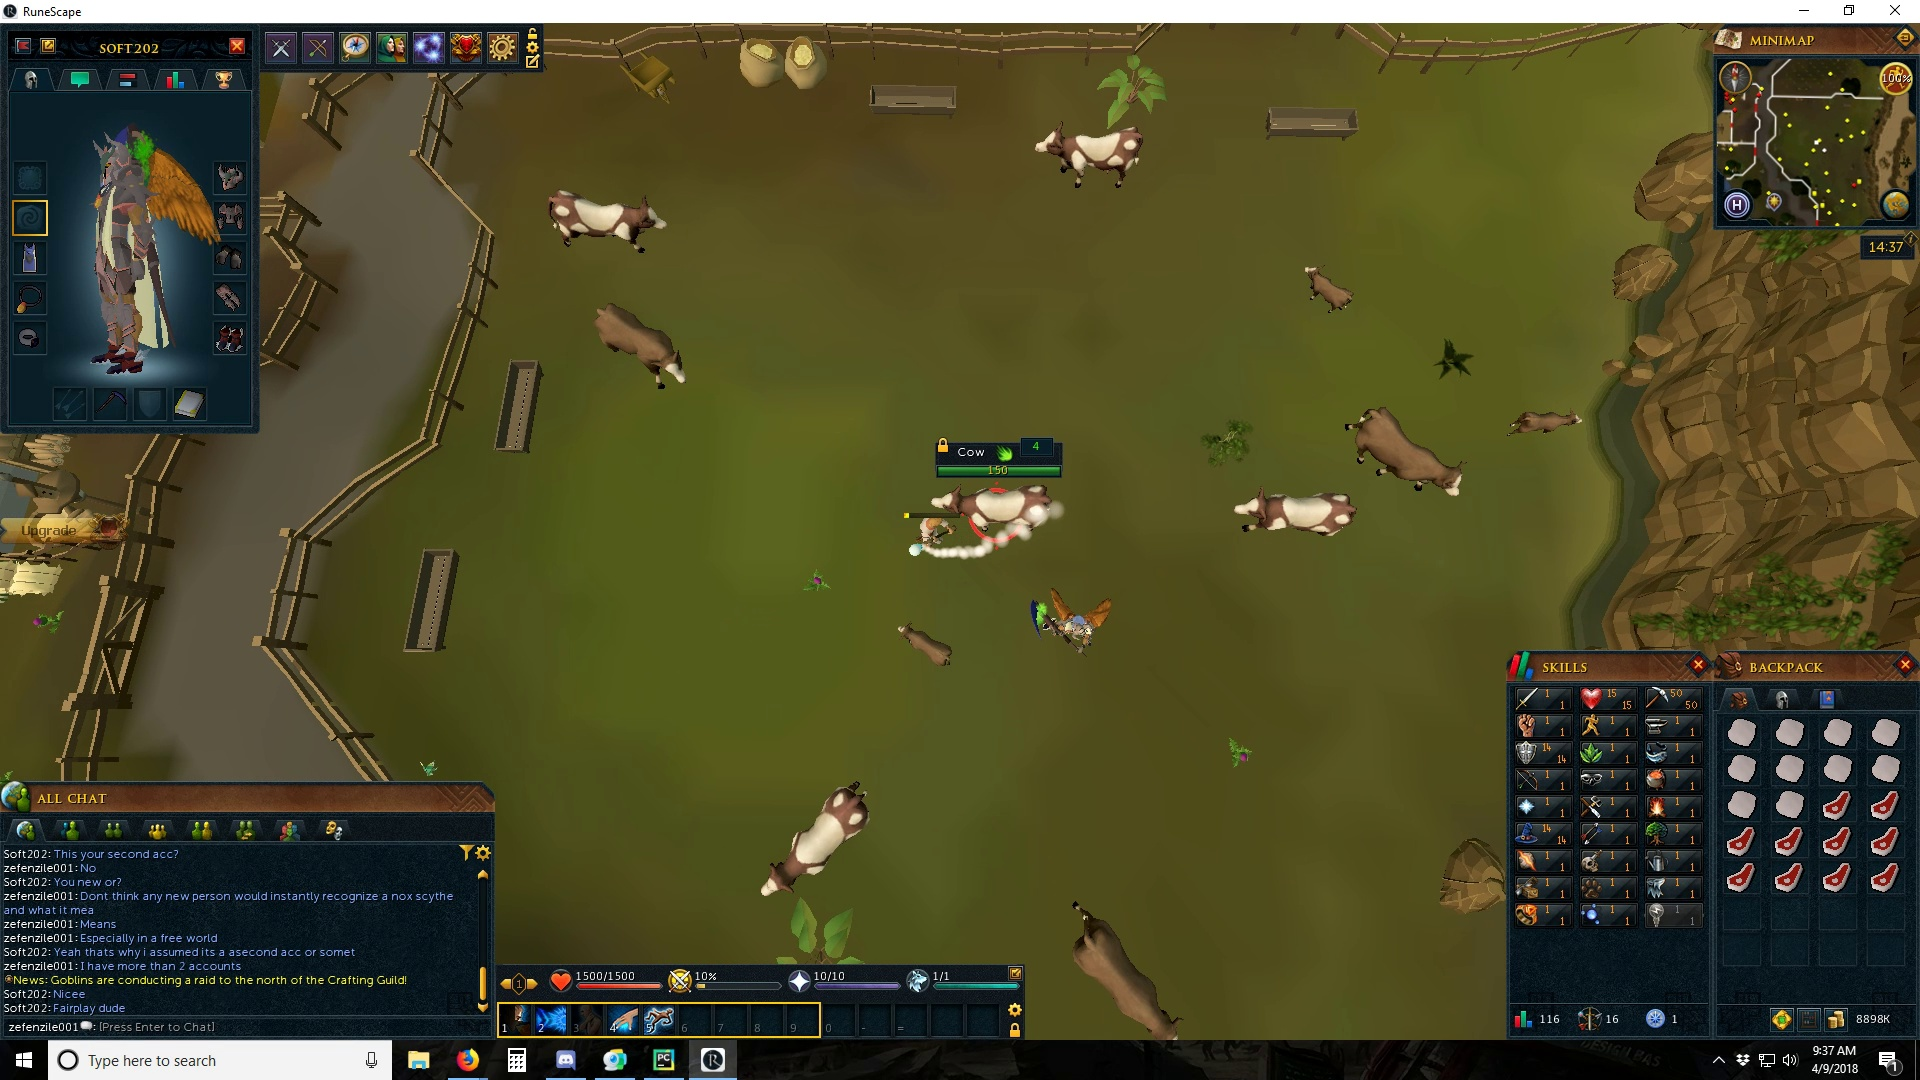calf: (891, 618, 953, 669), (1303, 260, 1360, 313), (1509, 407, 1586, 436)
cow: (1069, 899, 1185, 1040), (756, 779, 874, 899), (1342, 407, 1464, 500), (589, 301, 687, 390), (549, 186, 671, 255), (1033, 119, 1143, 190), (1236, 487, 1356, 539), (931, 485, 1055, 534)
